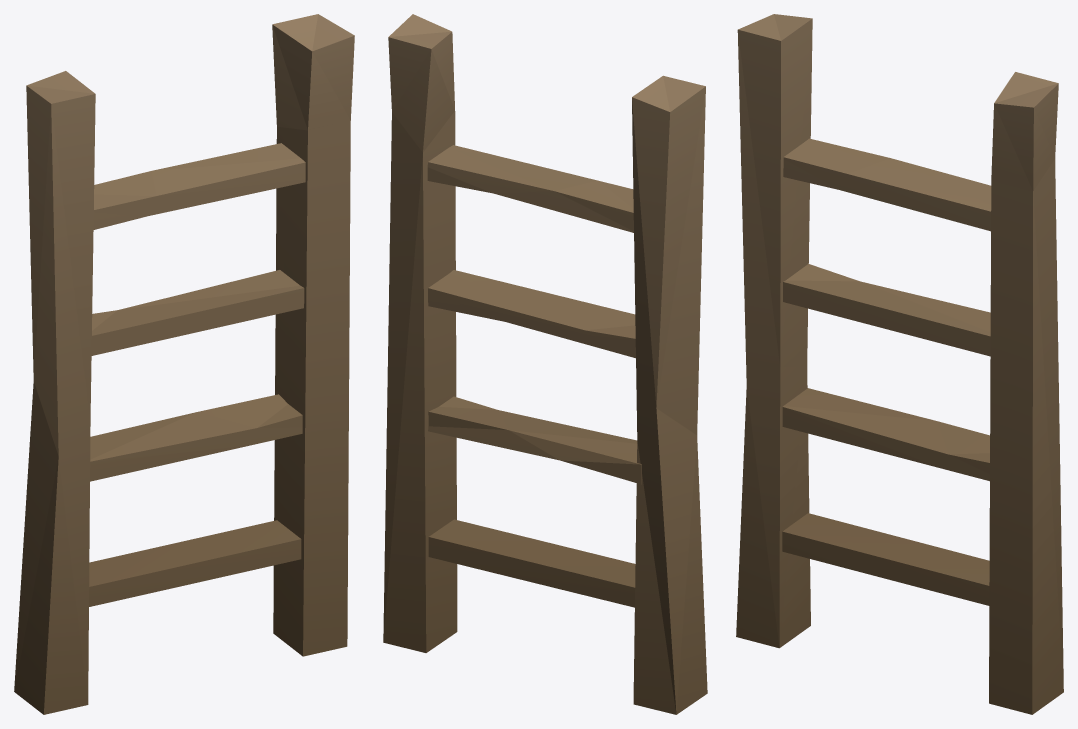
The model's file is Ladder.fbx.
The picture shows the model from 3 angles, left to right: view 1: azimuth 30°, elevation 25°; view 2: azimuth 150°, elevation 25°; view 3: azimuth 330°, elevation 25°; orthographic projection.
Visible parts, largest first — view 1: Ladder.002; view 2: Ladder.002; view 3: Ladder.002.
Part boxes in pixels (bbox=[...]): Ladder.002: bbox=[14, 14, 354, 714]; Ladder.002: bbox=[383, 14, 707, 714]; Ladder.002: bbox=[736, 14, 1063, 714].
Size of the model in its own units: 0.9381 by 1.81 by 0.1984.
1 material, 1 textured.
